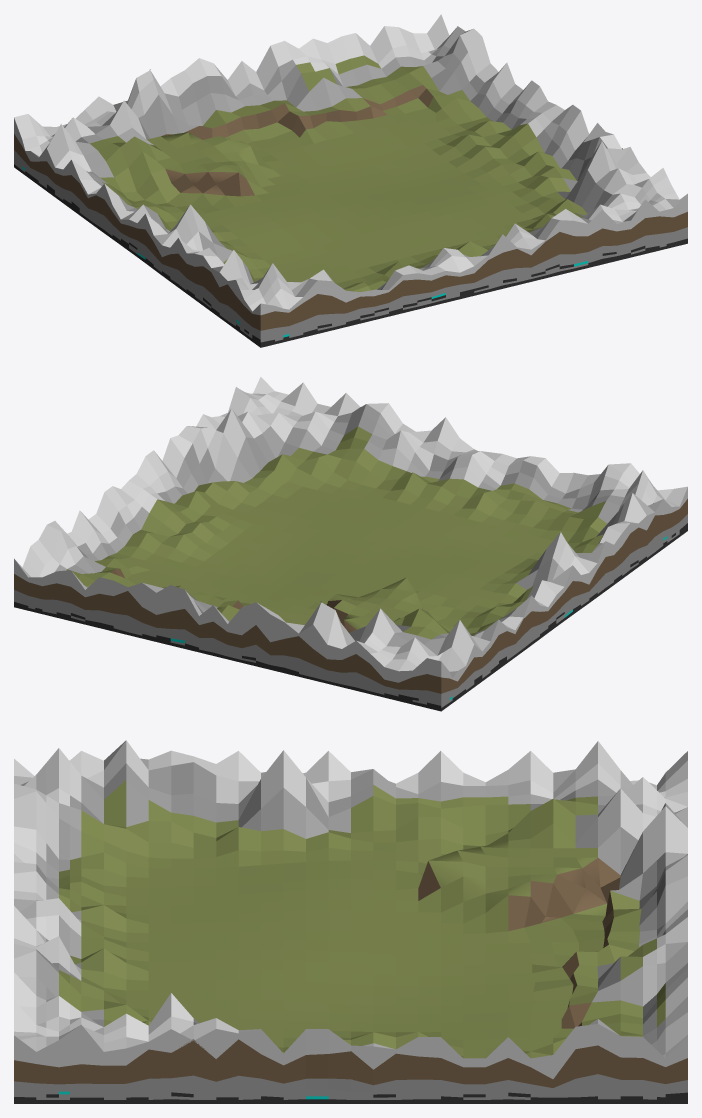
File: Board.fbx
3 renders of one model, top to bottom at view 1: azimuth 30°, elevation 25°; view 2: azimuth 150°, elevation 25°; view 3: azimuth 270°, elevation 25°, orthographic. The views are drawn at different scales.
Parts seen in each view (by area): view 1: Kronenkamp_Adventure_Board; view 2: Kronenkamp_Adventure_Board; view 3: Kronenkamp_Adventure_Board.
Boxes of the visible parts, x1,y1,x2,y2 form: Kronenkamp_Adventure_Board: [14, 14, 687, 347]; Kronenkamp_Adventure_Board: [14, 377, 687, 711]; Kronenkamp_Adventure_Board: [14, 740, 687, 1103].
Bounding box in the file's own units: 39.42 × 6.4 × 39.36.
